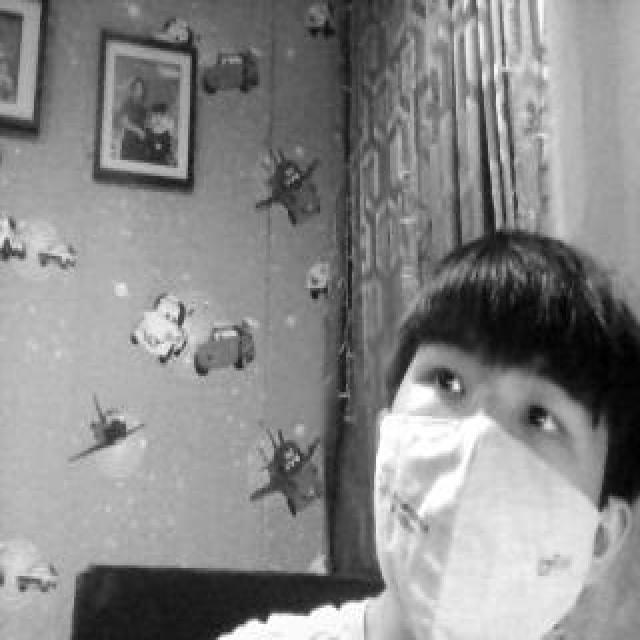Focused: (377, 234, 639, 640)
